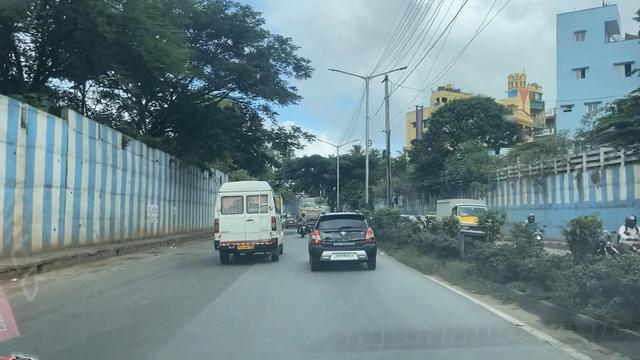HMV: (219, 181, 277, 259)
LMV: (308, 216, 373, 270)
